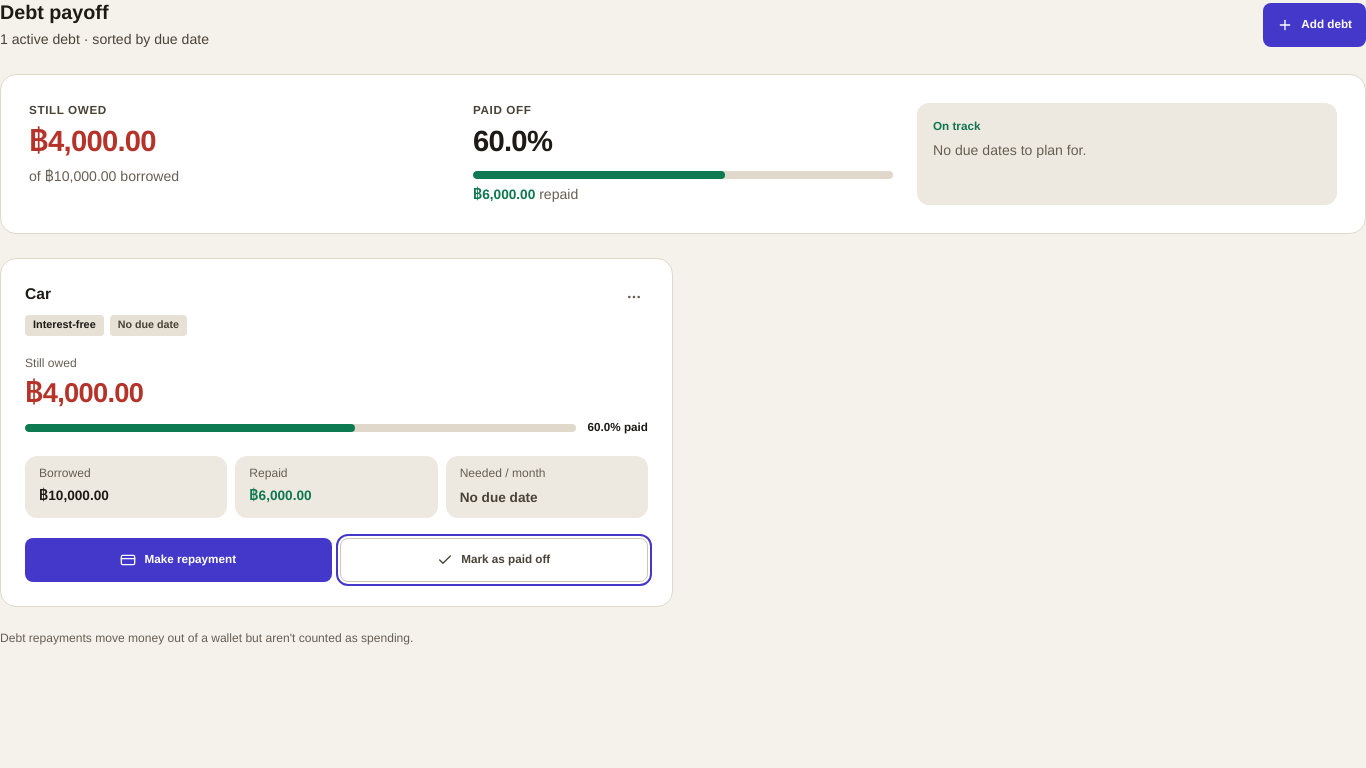
Mark as paid off › on confirm, moves the debt to Paid off and gives focus to its menu
Click the button with id "debt-settle-a" at [494, 560], box [340,538,648,582]
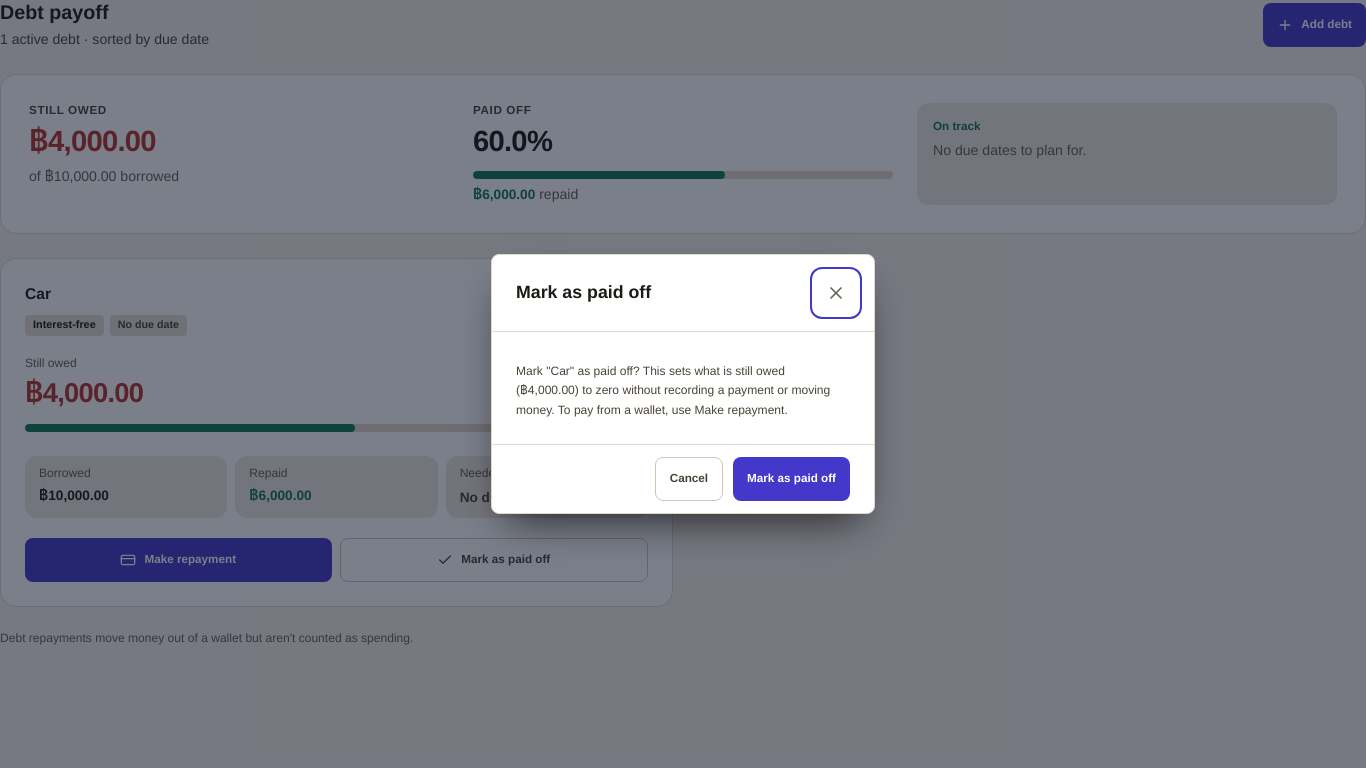
Click the button "Mark as paid off" at [792, 479], box [733,457,850,501]
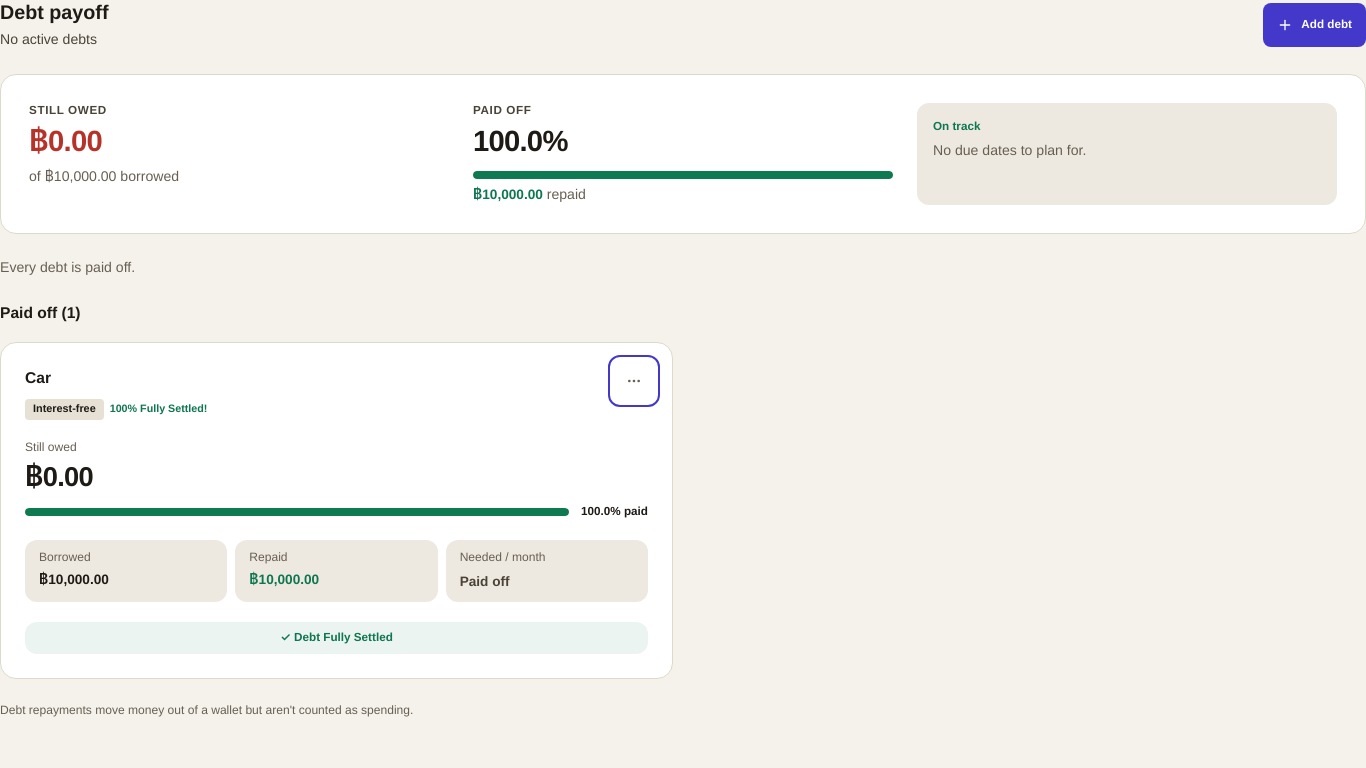
Result: the text "Every debt is paid off." is shown at [0,256,135,279]
Result: the text "No active debts" is shown at [0,30,108,50]
